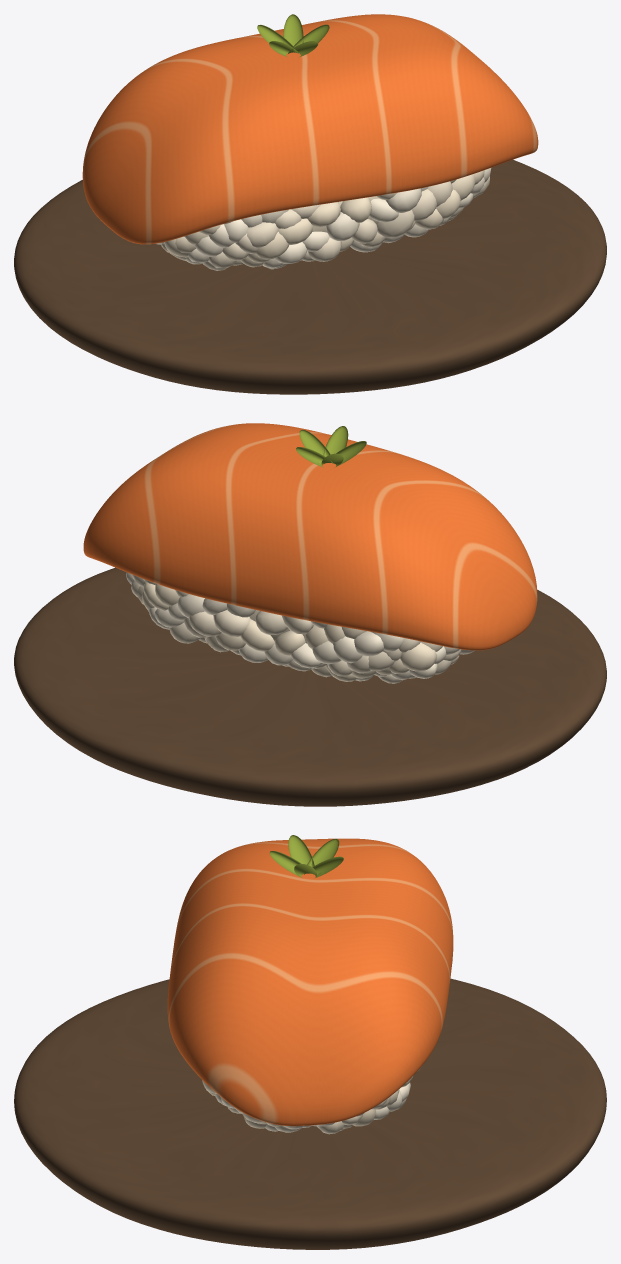
Rendered from 02-aburi-salmon.glb.
3 renders of one model, top to bottom at view 1: azimuth 30°, elevation 25°; view 2: azimuth 150°, elevation 25°; view 3: azimuth 270°, elevation 25°, orthographic. The views are drawn at different scales.
Visible parts, largest first — view 1: Cocoa ceramic plate, Salmon, Rounded rice grains 1, Rounded rice grains 0, Rounded rice grains 2; view 2: Cocoa ceramic plate, Salmon, Rounded rice grains 1, Rounded rice grains 0, Rounded rice grains 2; view 3: Cocoa ceramic plate, Salmon, Rounded rice grains 1, Rounded rice grains 0, Rounded rice grains 2.
Boxes of the visible parts, x1=… form: Cocoa ceramic plate: x1=14, y1=160, x2=606, y2=394; Salmon: x1=82, y1=14, x2=538, y2=244; Rounded rice grains 1: x1=185, y1=168, x2=491, y2=269; Rounded rice grains 0: x1=161, y1=170, x2=484, y2=267; Rounded rice grains 2: x1=156, y1=176, x2=489, y2=270; Cocoa ceramic plate: x1=14, y1=567, x2=606, y2=806; Salmon: x1=83, y1=423, x2=537, y2=650; Rounded rice grains 1: x1=126, y1=572, x2=459, y2=681; Rounded rice grains 0: x1=137, y1=581, x2=459, y2=681; Rounded rice grains 2: x1=131, y1=574, x2=475, y2=683; Cocoa ceramic plate: x1=14, y1=978, x2=606, y2=1249; Salmon: x1=167, y1=838, x2=453, y2=1126; Rounded rice grains 1: x1=215, y1=1076, x2=412, y2=1132; Rounded rice grains 0: x1=202, y1=1078, x2=411, y2=1130; Rounded rice grains 2: x1=227, y1=1066, x2=421, y2=1134.
Bounding box in the file's own units: 0.073 × 0.0364 × 0.069.
6 materials, 1 textured.
